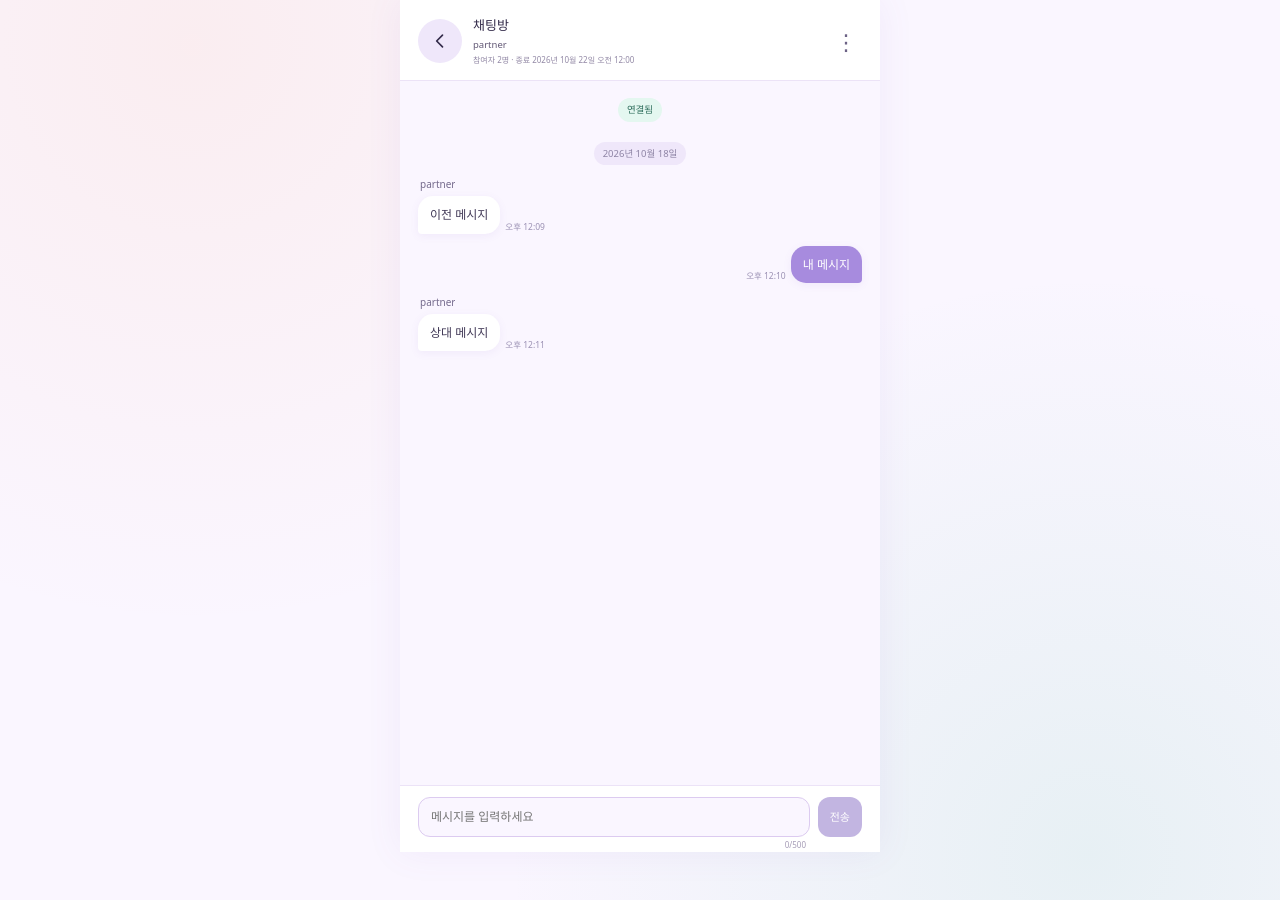
Scenario: ChatRoomPage REST integration › closes with Escape and keeps focus inside the dialog while tabbing
Expected: the text "상대 메시지" is shown, [418, 314, 500, 352]
Click the button named "채팅방 메뉴": (846, 41) [830, 25, 862, 57]
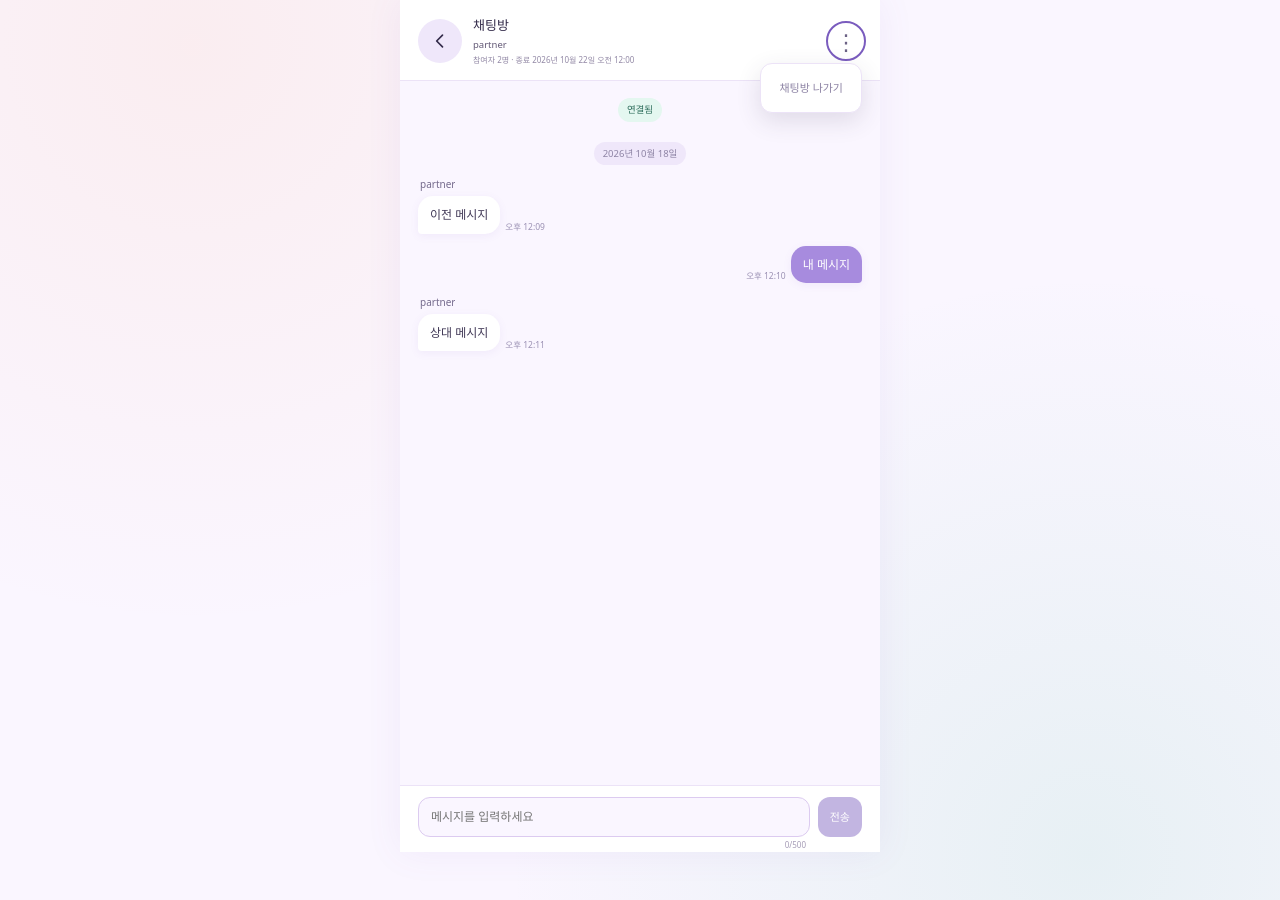
Click the menu item "채팅방 나가기": (811, 88) [767, 70, 855, 106]
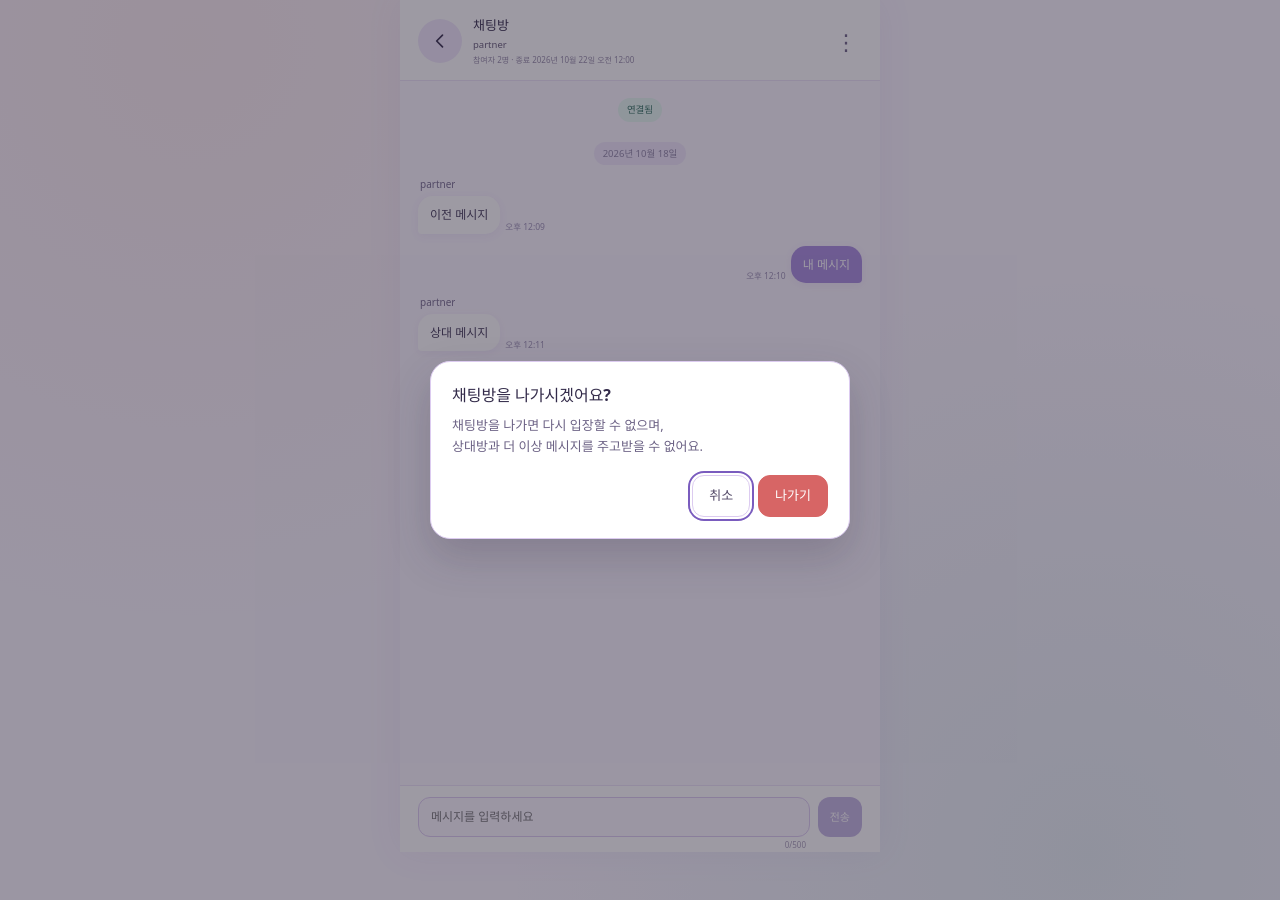
Press Tab
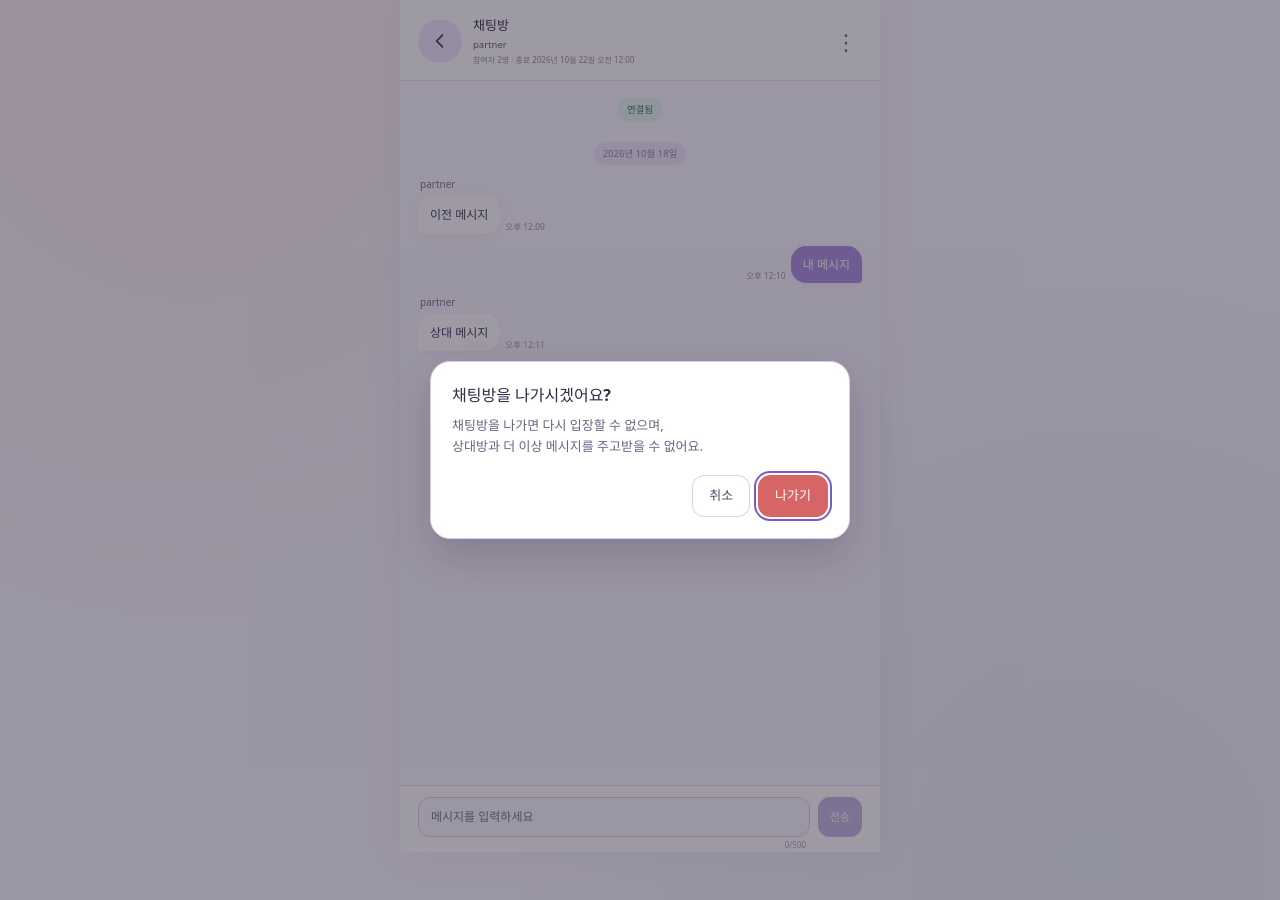
Press Tab
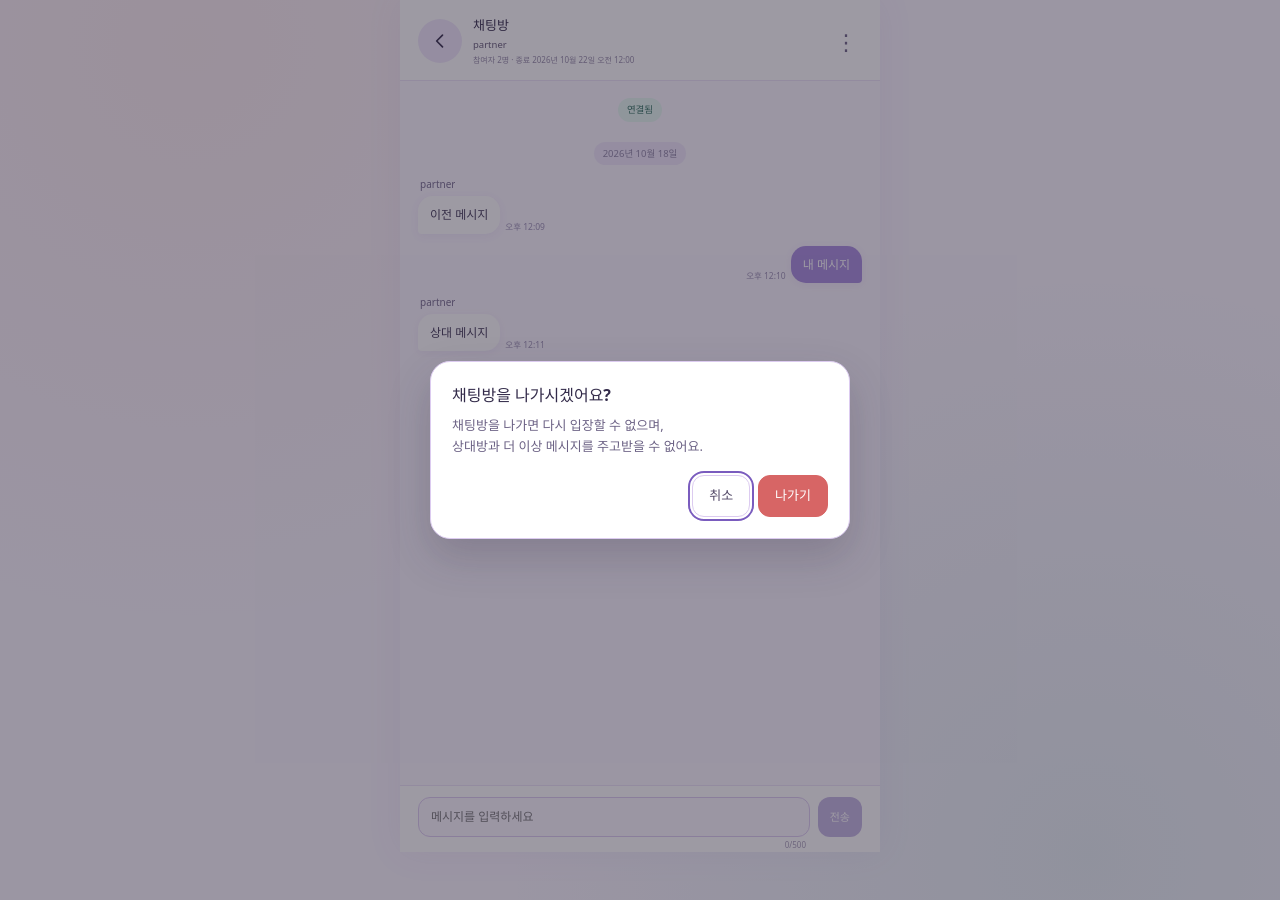
Press Escape
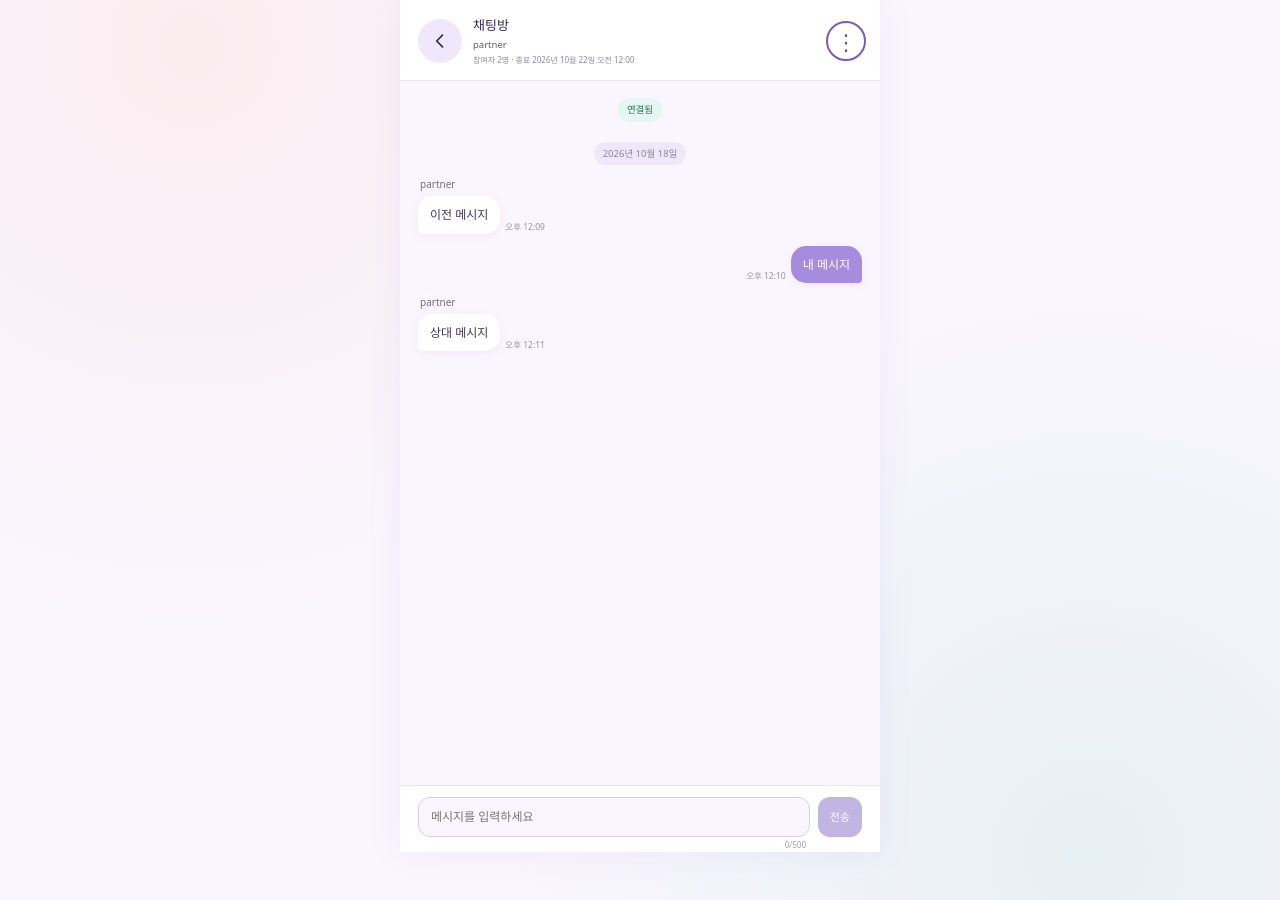
Now the dialog is gone
